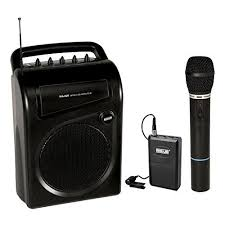microphone: (180, 54, 225, 192)
speaker: (9, 38, 124, 209)
